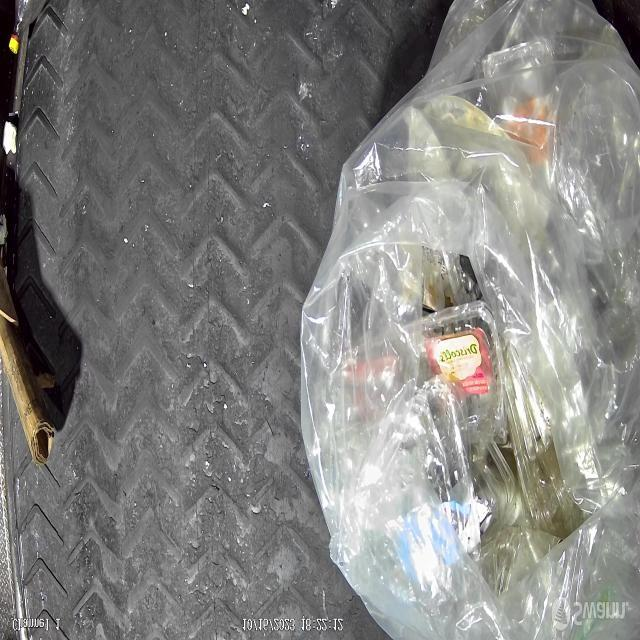plastic_bottle: (8, 0, 46, 56)
